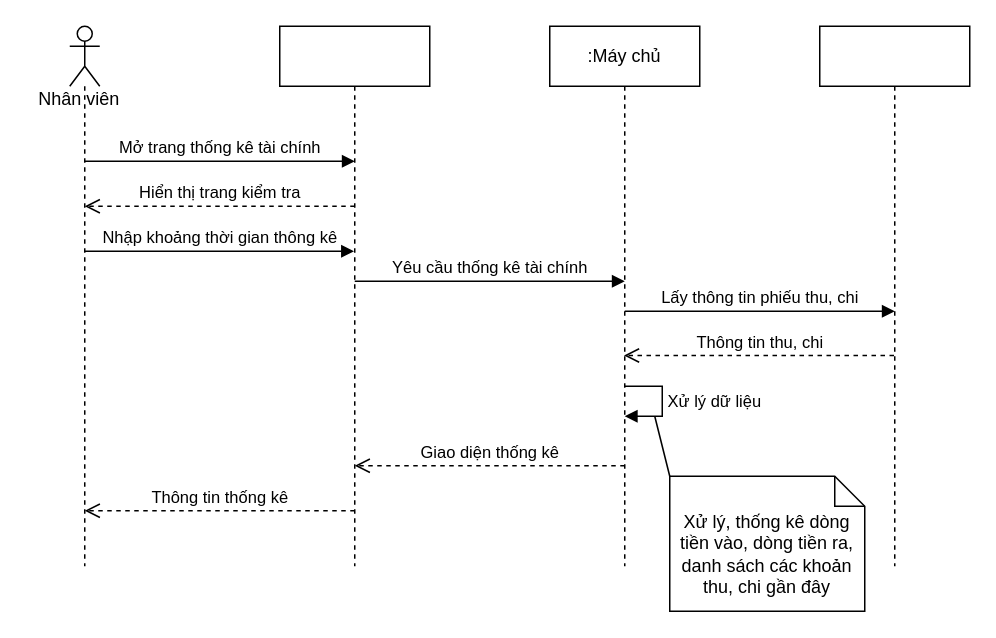
Image size: 996x638. Some labels were removed from this diagram. The box of each missing label's shape, as (x1, y1, x2, y2) in pixels:
:Dữ liệu hóa đơn tài chính: (818, 25, 970, 566)
:Giao diện web: (278, 25, 430, 566)
